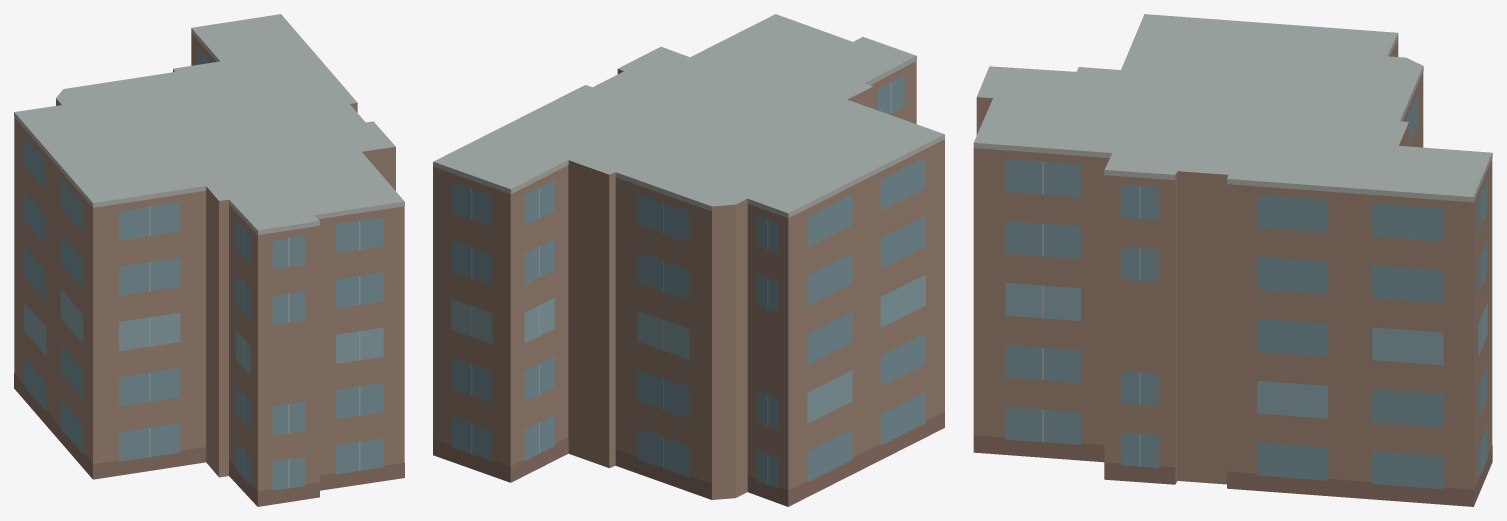
File: survey-upis-32499326.glb
The picture shows the model from 3 angles, left to right: view 1: azimuth 30°, elevation 25°; view 2: azimuth 150°, elevation 25°; view 3: azimuth 270°, elevation 25°; orthographic projection. The views are drawn at different scales.
Parts seen in each view (by area): view 1: survey-upis-32499326.tmp; view 2: survey-upis-32499326.tmp; view 3: survey-upis-32499326.tmp.
Boxes of the visible parts, left/top/right/bottom form: survey-upis-32499326.tmp: left=14, top=14, right=404, bottom=506; survey-upis-32499326.tmp: left=433, top=14, right=944, bottom=506; survey-upis-32499326.tmp: left=973, top=14, right=1492, bottom=506.
Size of the model in its own units: 18.27 by 14.4 by 21.87.
